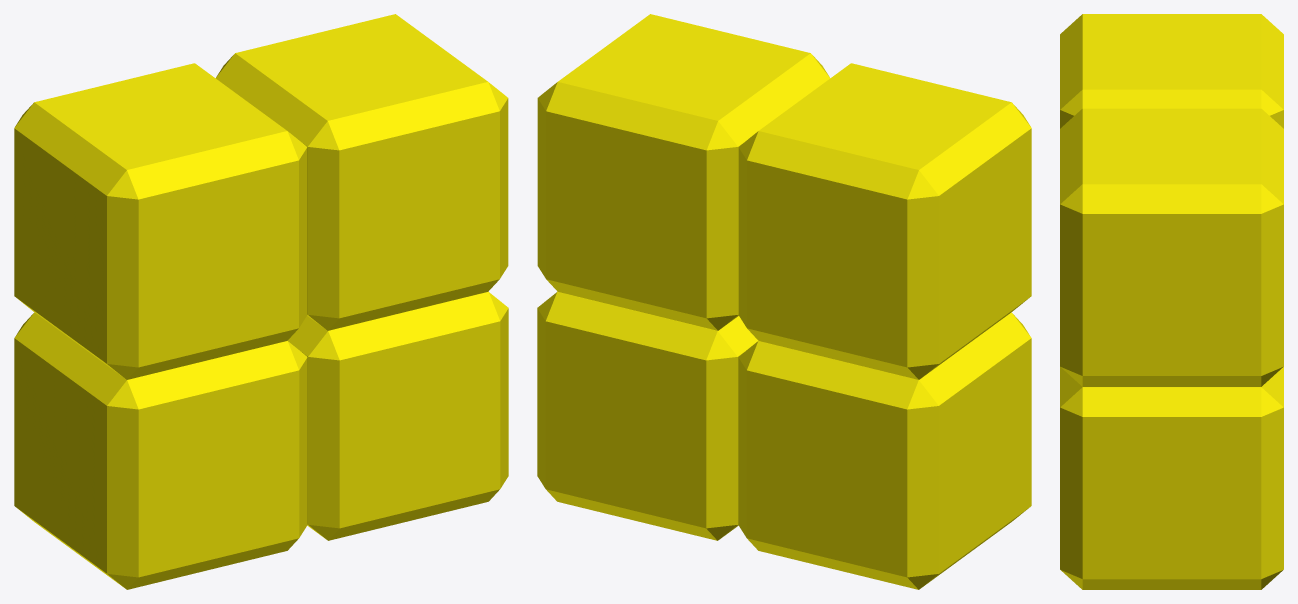
Rendered from Tetris_O.fbx.
3 views of the same model, side by side, from view 1: azimuth 30°, elevation 25°; view 2: azimuth 150°, elevation 25°; view 3: azimuth 270°, elevation 25° (orthographic). The views are drawn at different scales.
Parts seen in each view (by area): view 1: Box100; view 2: Box100; view 3: Box100.
Part boxes in pixels (bbox=[...]): Box100: bbox=[14, 14, 508, 589]; Box100: bbox=[537, 14, 1031, 589]; Box100: bbox=[1060, 14, 1283, 589].
Size of the model in its own units: 200 by 200 by 100.
